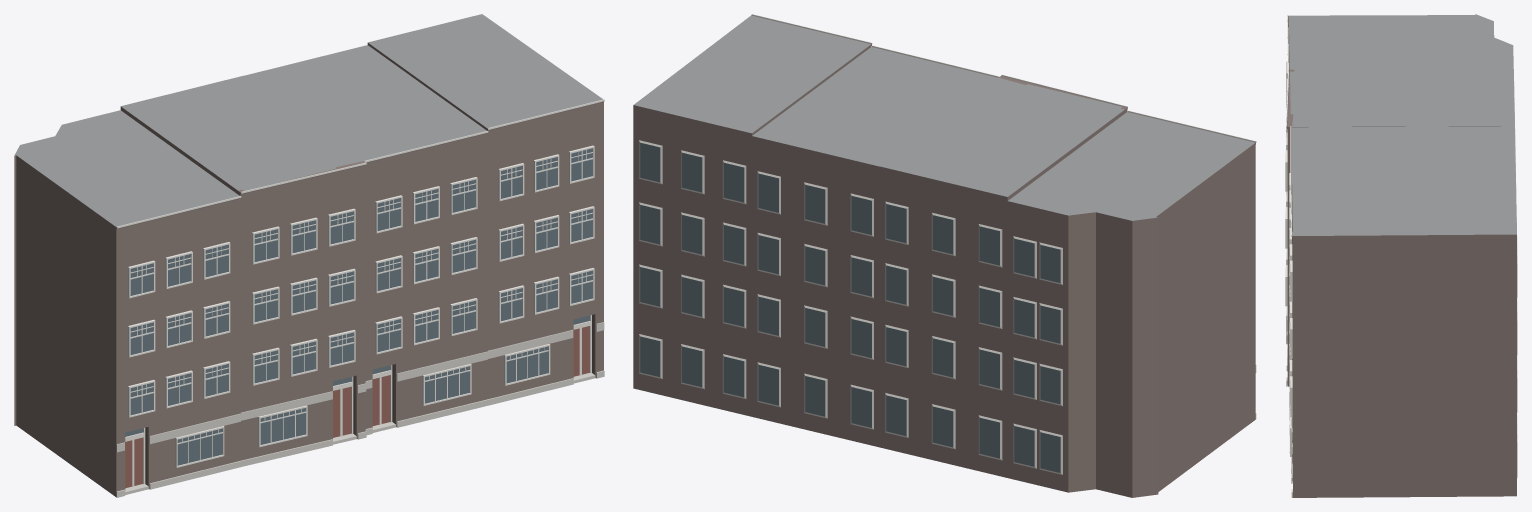
Rendered from chunk-face-steyn-9-19-r1.glb.
The picture shows the model from 3 angles, left to right: view 1: azimuth 30°, elevation 25°; view 2: azimuth 150°, elevation 25°; view 3: azimuth 270°, elevation 25°; orthographic projection. The views are drawn at different scales.
Visible parts, largest first — view 1: face-steyn-9-19-r1; view 2: face-steyn-9-19-r1; view 3: face-steyn-9-19-r1.
Part boxes in pixels (x1,y1,x2,y2): face-steyn-9-19-r1: (14, 14, 604, 497); face-steyn-9-19-r1: (633, 14, 1256, 497); face-steyn-9-19-r1: (1285, 14, 1517, 497).
Size of the model in its own units: 26.39 by 14.17 by 11.38.
